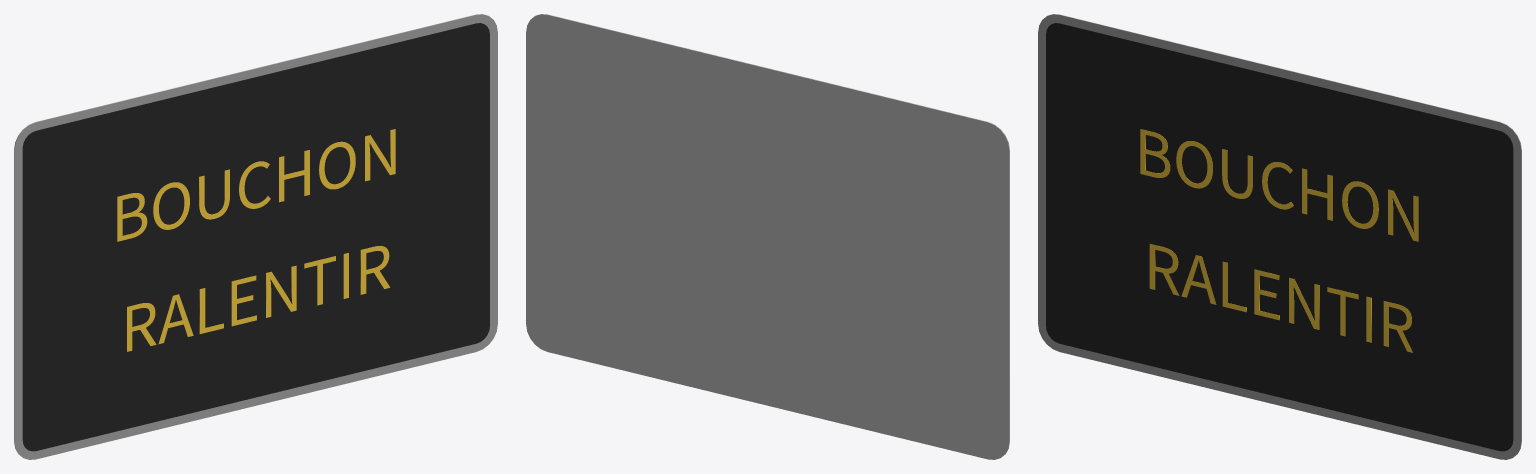
The model's file is XAK30.glb.
3 renders of one model, left to right at view 1: azimuth 30°, elevation 25°; view 2: azimuth 150°, elevation 25°; view 3: azimuth 330°, elevation 25°, orthographic.
Visible parts, largest first — view 1: XAK30_r01, XAK30_r00, XAK30_txt02, XAK30_txt03, XAK30_dos; view 2: XAK30_dos, XAK30_r00; view 3: XAK30_r01, XAK30_r00, XAK30_txt02, XAK30_txt03, XAK30_dos.
Part boxes in pixels (<box>): XAK30_r01: <box>22,23,489,451</box>; XAK30_r00: <box>14,14,497,459</box>; XAK30_txt02: <box>117,129,395,241</box>; XAK30_txt03: <box>127,246,389,351</box>; XAK30_dos: <box>14,14,487,452</box>; XAK30_dos: <box>526,14,1009,459</box>; XAK30_r00: <box>542,14,1009,448</box>; XAK30_r01: <box>1046,23,1513,451</box>; XAK30_r00: <box>1038,14,1521,459</box>; XAK30_txt02: <box>1140,129,1418,241</box>; XAK30_txt03: <box>1149,244,1412,352</box>; XAK30_dos: <box>1048,14,1521,452</box>.
Bounding box in the file's own units: 0.9 × 0.6 × 0.0029.
